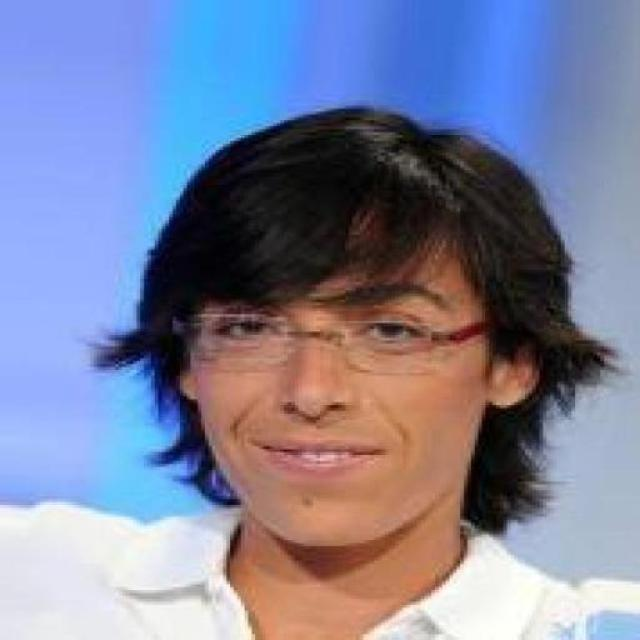bareface: (158, 190, 510, 558)
